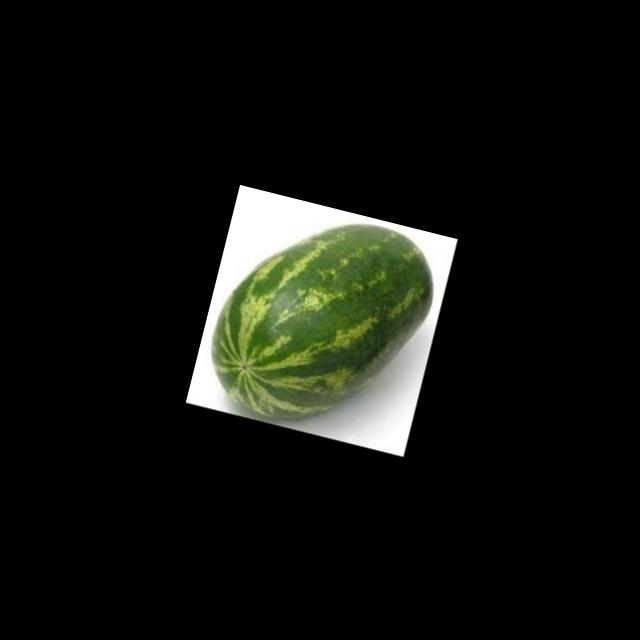watermelon: (196, 188, 448, 444)
